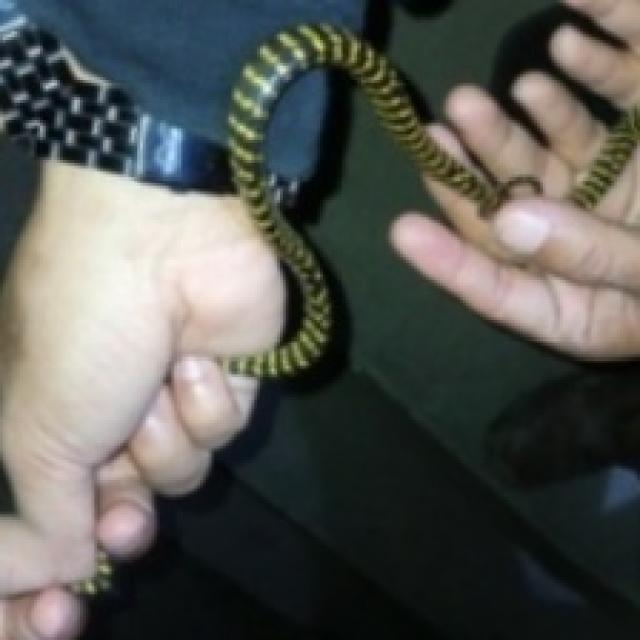mangrove cat snake: (226, 23, 500, 377), (570, 108, 640, 208)
